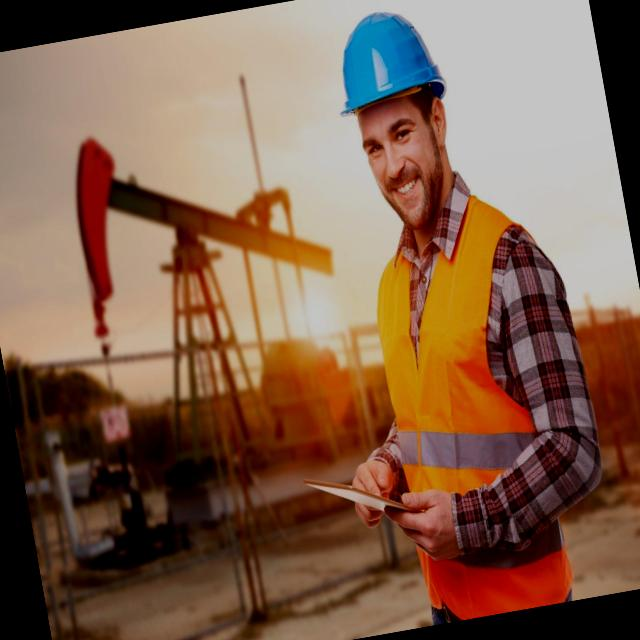helmet: (323, 0, 455, 133)
no-goggles: (344, 101, 449, 170)
vest: (354, 209, 607, 627)
